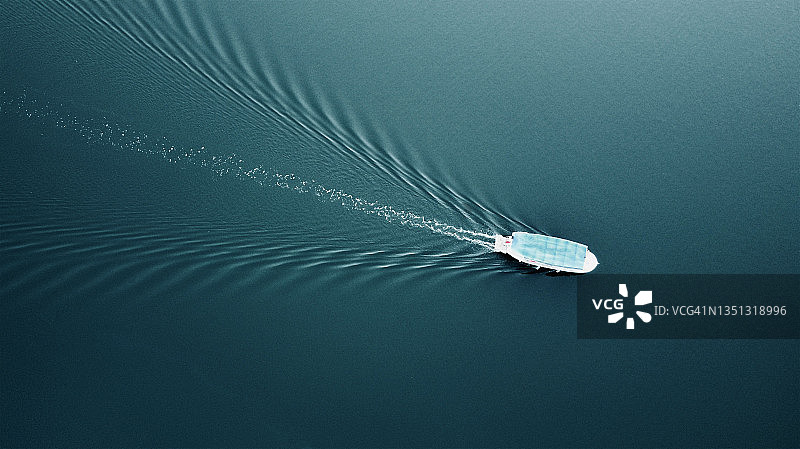ship: (479, 217, 608, 287)
